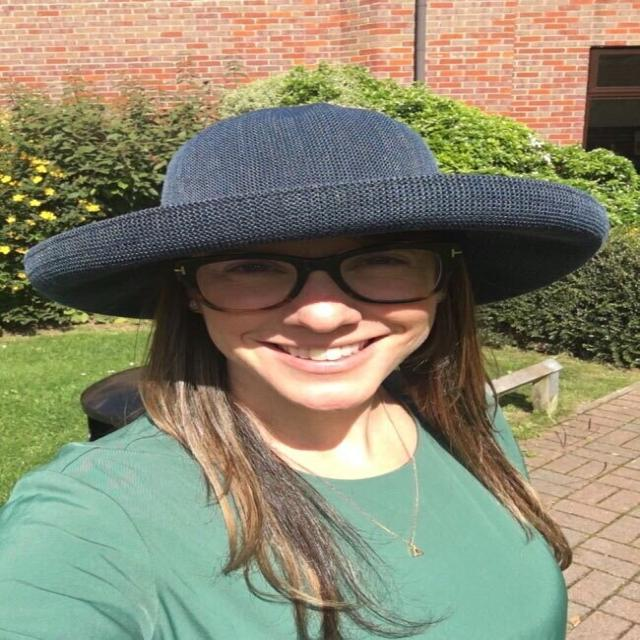hat: (18, 102, 610, 415)
